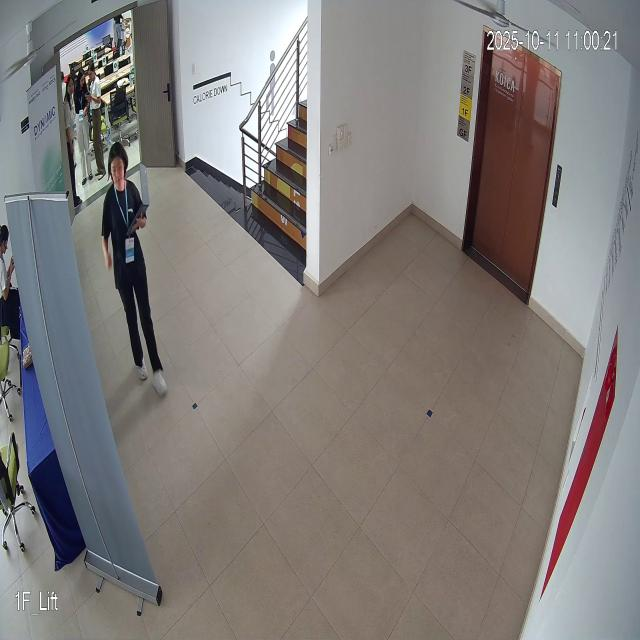face: (106, 140, 130, 193)
